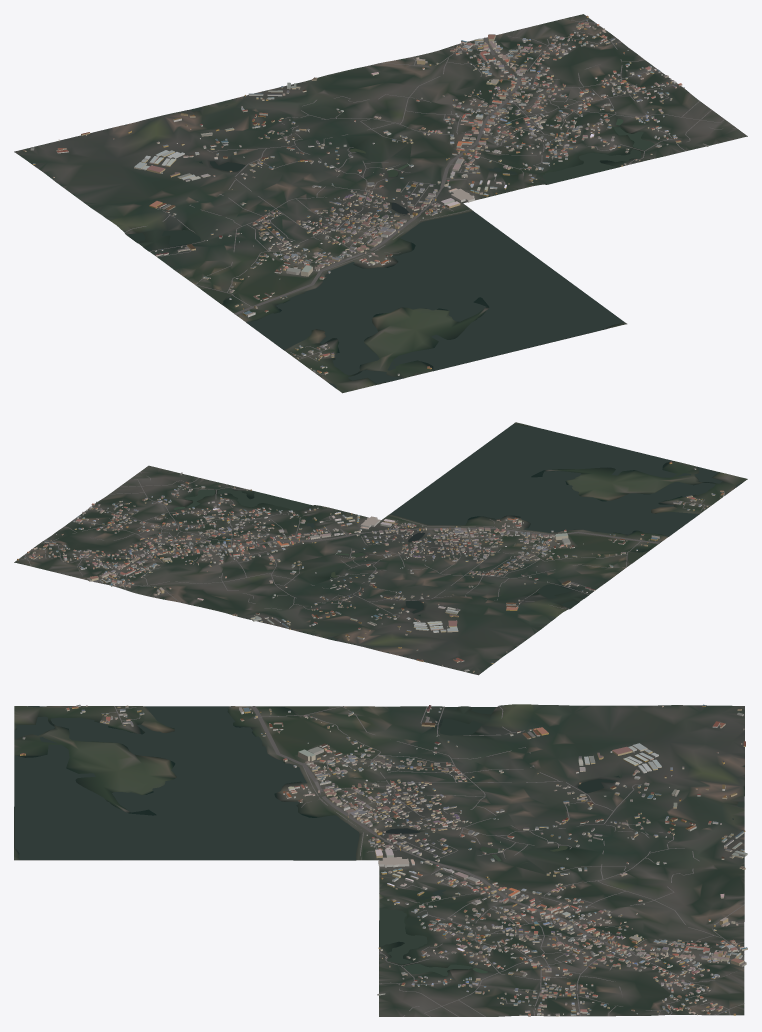
The picture shows the model from 3 angles, top to bottom: view 1: azimuth 30°, elevation 25°; view 2: azimuth 150°, elevation 25°; view 3: azimuth 270°, elevation 25°; orthographic projection. The views are drawn at different scales.
Parts seen in each view (by area): view 1: ground, water, buildings, roads; view 2: ground, water, buildings, roads; view 3: ground, water, buildings, roads.
Boxes of the visible parts, x1,y1,x2,y2 form: ground: [14, 14, 747, 393]; water: [124, 105, 654, 388]; buildings: [23, 15, 708, 375]; roads: [125, 18, 736, 375]; ground: [14, 422, 747, 675]; water: [174, 424, 742, 653]; buildings: [17, 461, 724, 672]; roads: [19, 472, 725, 617]; ground: [14, 704, 744, 1016]; water: [14, 706, 744, 975]; buildings: [20, 704, 747, 1016]; roads: [65, 706, 744, 1016].
Size of the model in its own units: 2811 by 34.9 by 2816.
